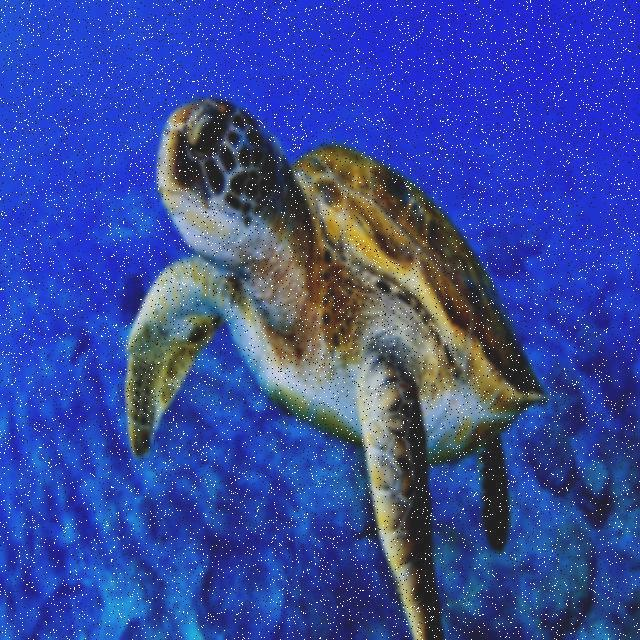tortoise: (108, 80, 564, 640)
